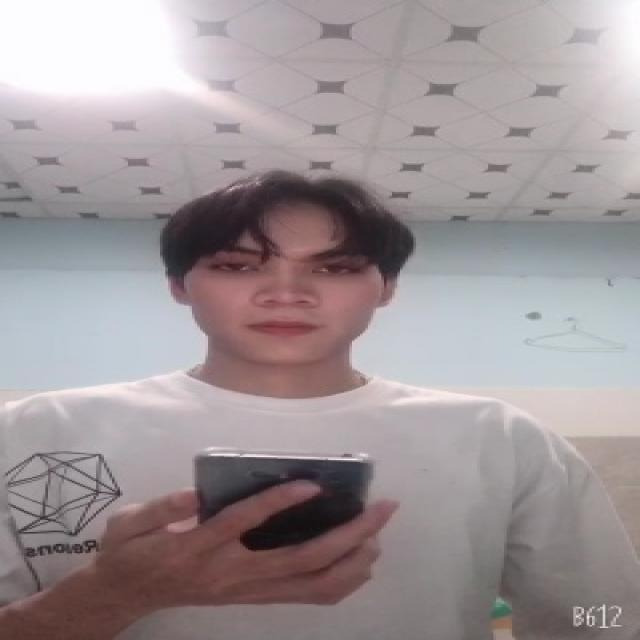Phone: (192, 445, 377, 554)
